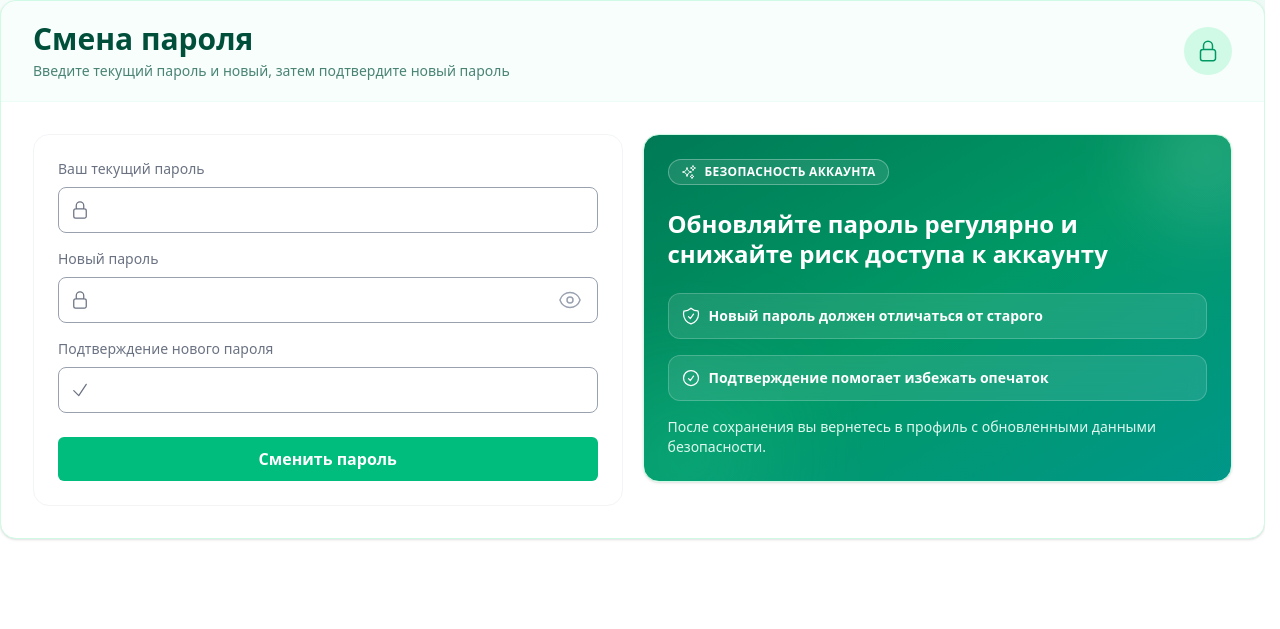
Test: Смена пароля › Проверка работоспособности валидации
Click the button "Сменить пароль".
click(328, 459)  # box [58, 437, 598, 481]
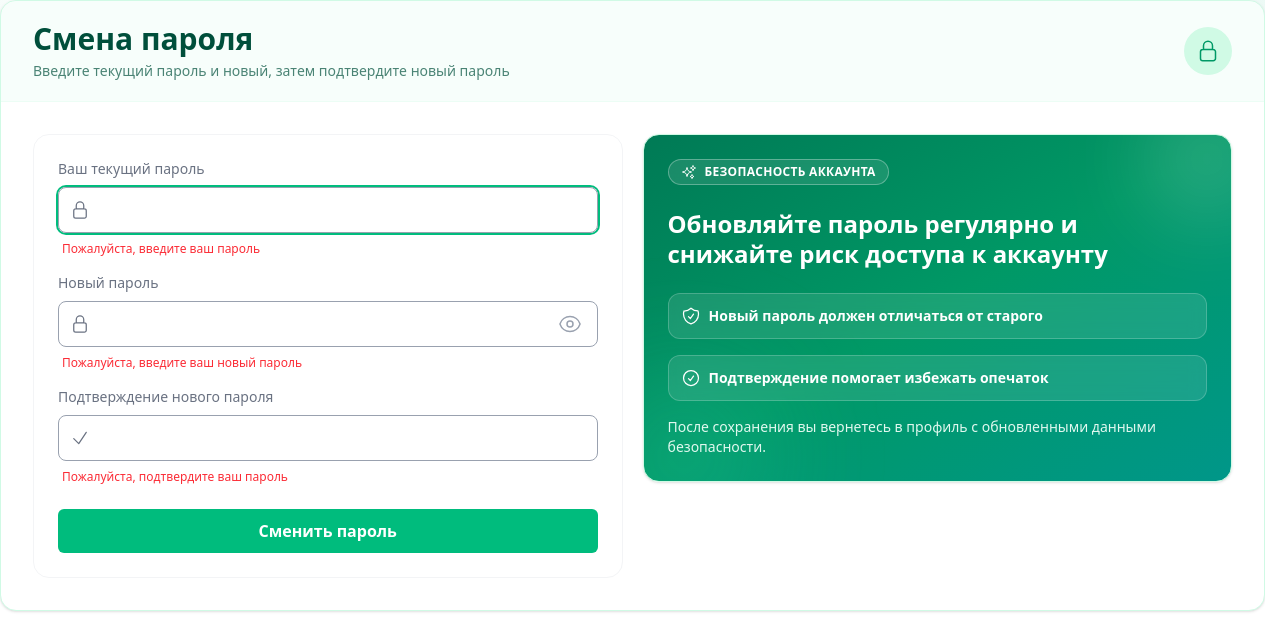
Check: the text "Пожалуйста, введите ваш пароль" is shown, box [62, 240, 260, 257]
Check: the text "Пожалуйста, введите ваш новый пароль" is shown, box [62, 354, 302, 371]
Check: the text "Пожалуйста, подтвердите ваш пароль" is shown, box [62, 468, 288, 485]
